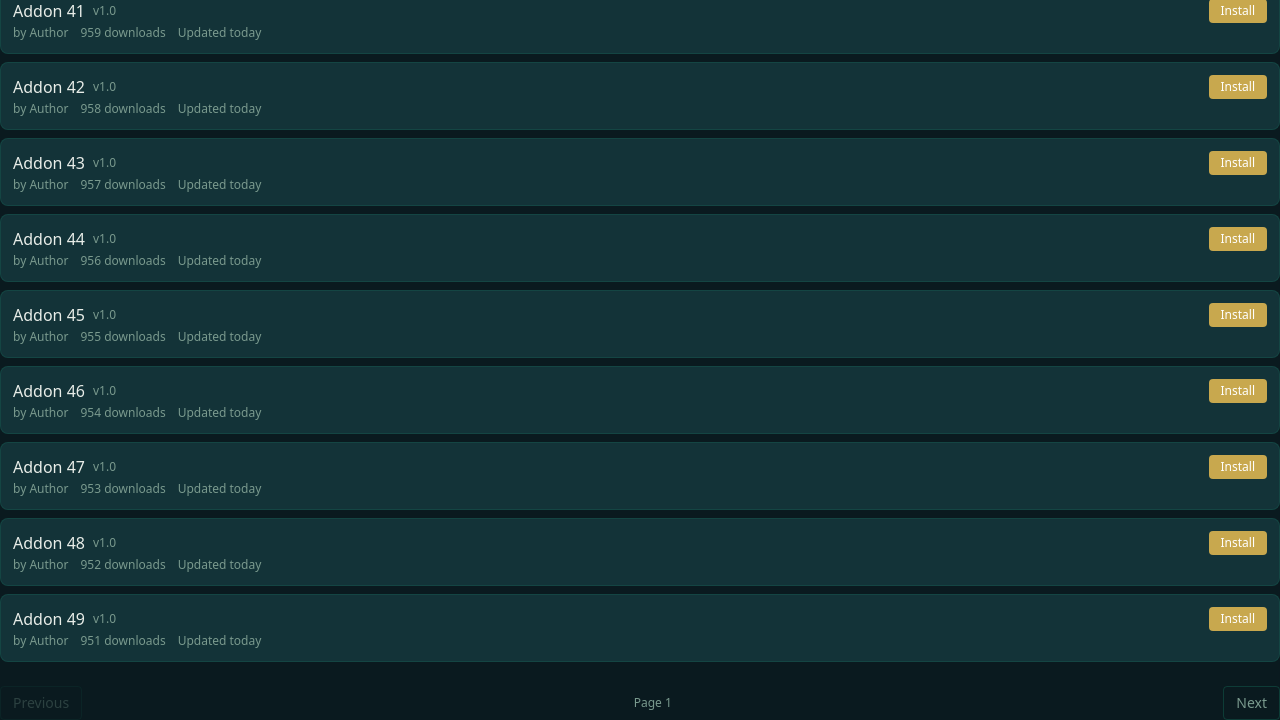
Test case: BrowsePage pagination › reloads from the backend and returns to page 1 when 'Show libraries' is toggled
(page scrolled)
Click the button "Next".
click(1252, 703)  # box x1=1223 y1=686 x2=1279 y2=719
(page scrolled)
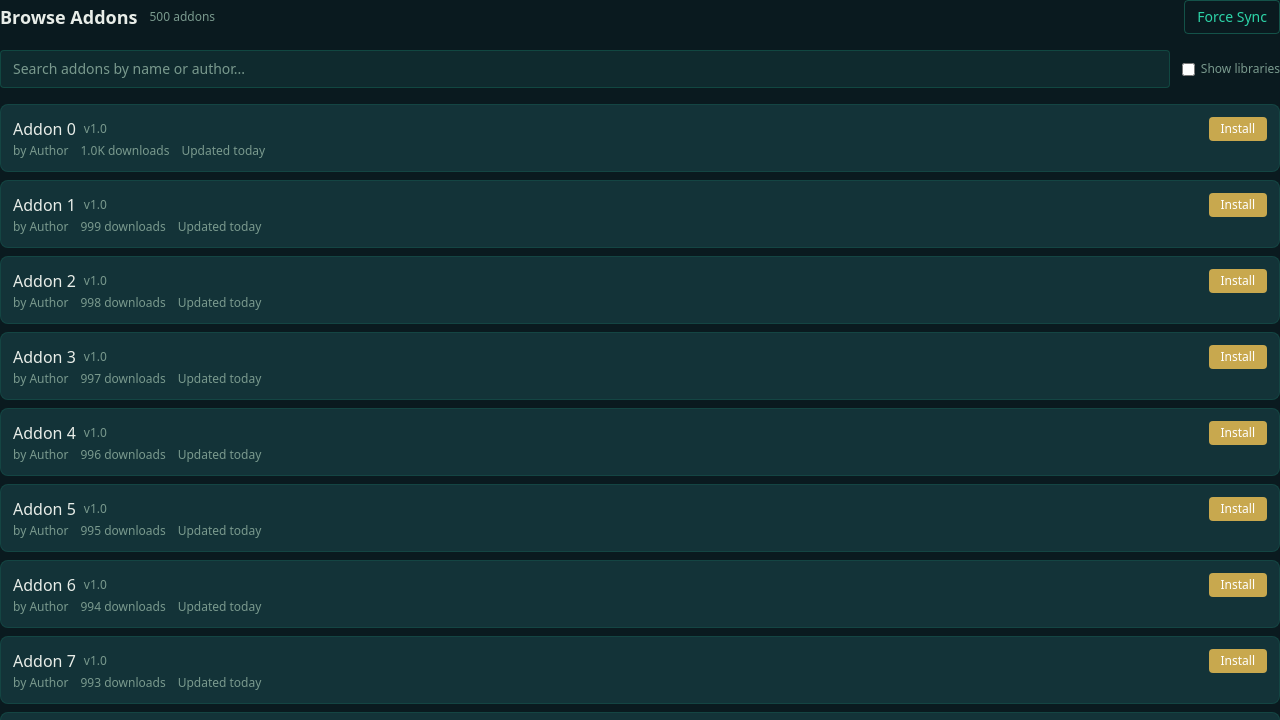
Click the checkbox labelled "Show libraries".
click(1188, 69)  # box x1=1182 y1=62 x2=1195 y2=76
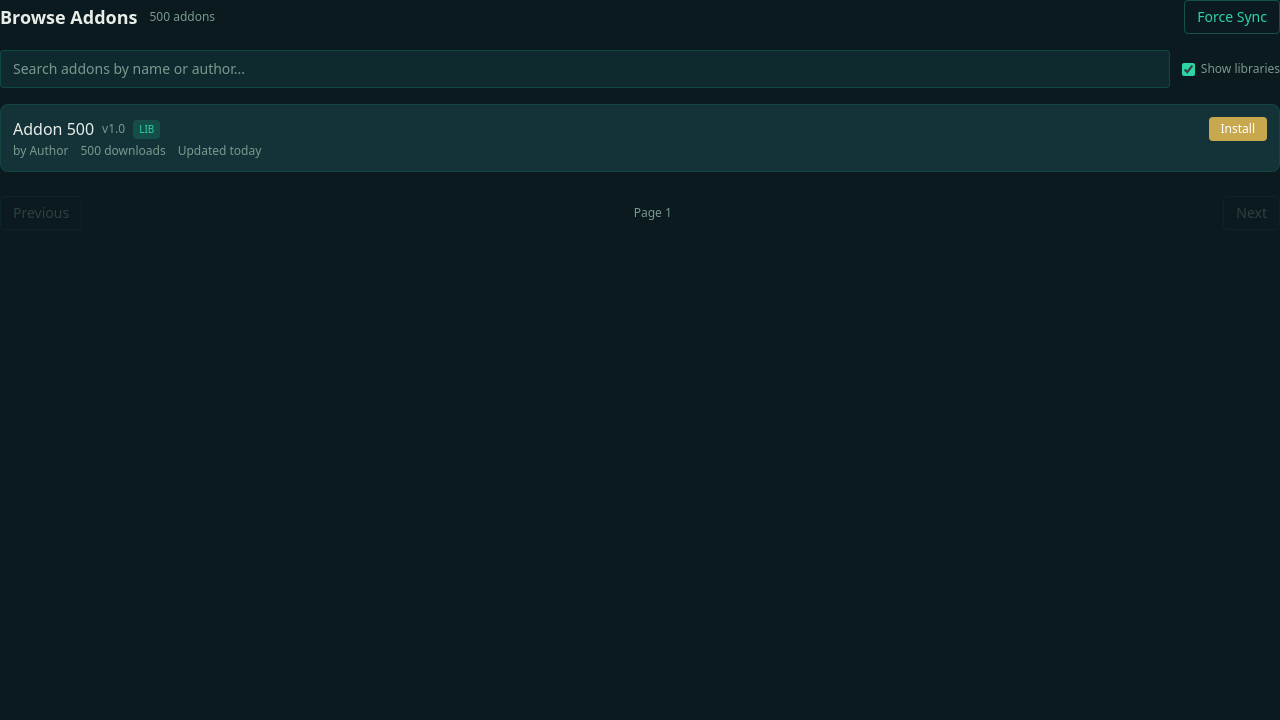
Expected: the text "Addon 500" is shown, x1=13 y1=117 x2=94 y2=141
Expected: the text "Page 1" is shown, x1=634 y1=205 x2=672 y2=221
